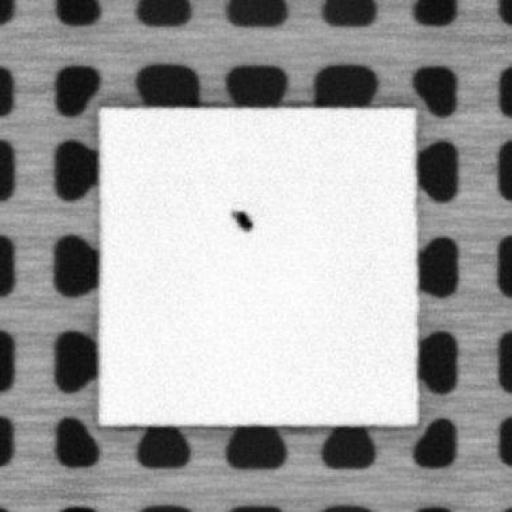DIE_INK: (228, 204, 250, 231)
